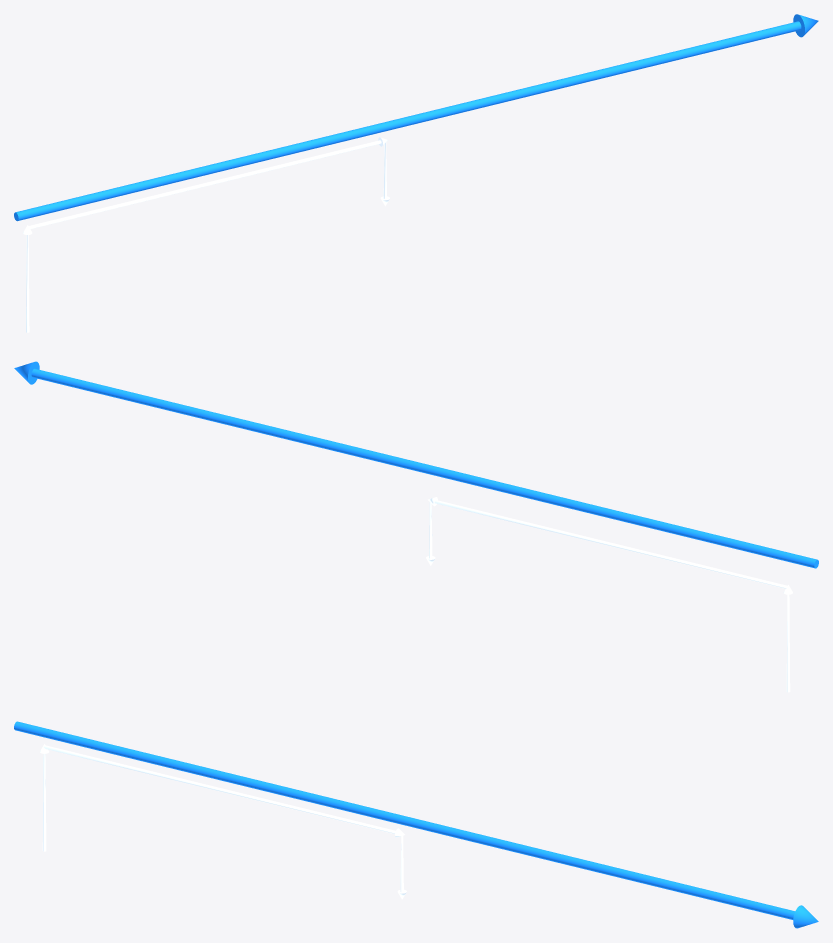
File: pipe_tracing_system_flow.glb
3 views of the same model, one above another, from view 1: azimuth 30°, elevation 25°; view 2: azimuth 150°, elevation 25°; view 3: azimuth 330°, elevation 25° (orthographic).
Visible parts, largest first — view 1: product, steam; view 2: product, steam; view 3: product, steam.
Boxes of the visible parts, x1=… form: product: x1=14, y1=14, x2=818, y2=221; steam: x1=23, y1=137, x2=389, y2=332; product: x1=14, y1=361, x2=818, y2=568; steam: x1=426, y1=497, x2=792, y2=692; product: x1=14, y1=721, x2=818, y2=928; steam: x1=40, y1=744, x2=406, y2=899.
Size of the model in its own units: 2.02 by 0.3296 by 0.0731.
